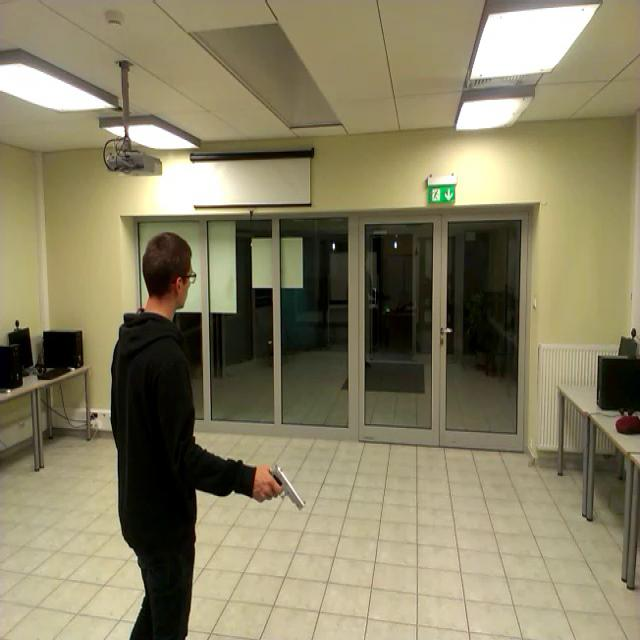handgun: (262, 452, 312, 530)
